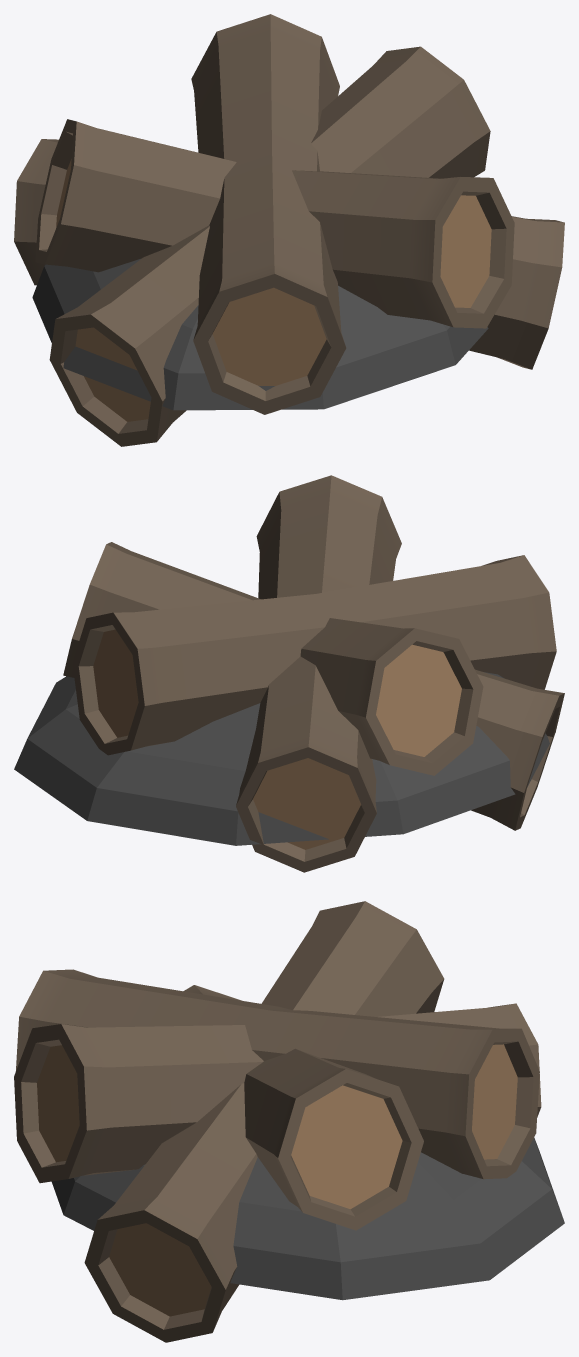
The model's file is Geo_CampfireDying.fbx.
The picture shows the model from 3 angles, top to bottom: view 1: azimuth 30°, elevation 25°; view 2: azimuth 150°, elevation 25°; view 3: azimuth 270°, elevation 25°; orthographic projection. The views are drawn at different scales.
Parts seen in each view (by area): view 1: Campfire_Dying; view 2: Campfire_Dying; view 3: Campfire_Dying.
Boxes of the visible parts, x1=… form: Campfire_Dying: x1=14, y1=14, x2=564, y2=446; Campfire_Dying: x1=14, y1=475, x2=564, y2=872; Campfire_Dying: x1=14, y1=901, x2=564, y2=1342.
Bounding box in the file's own units: 46.99 × 24.34 × 45.53.
